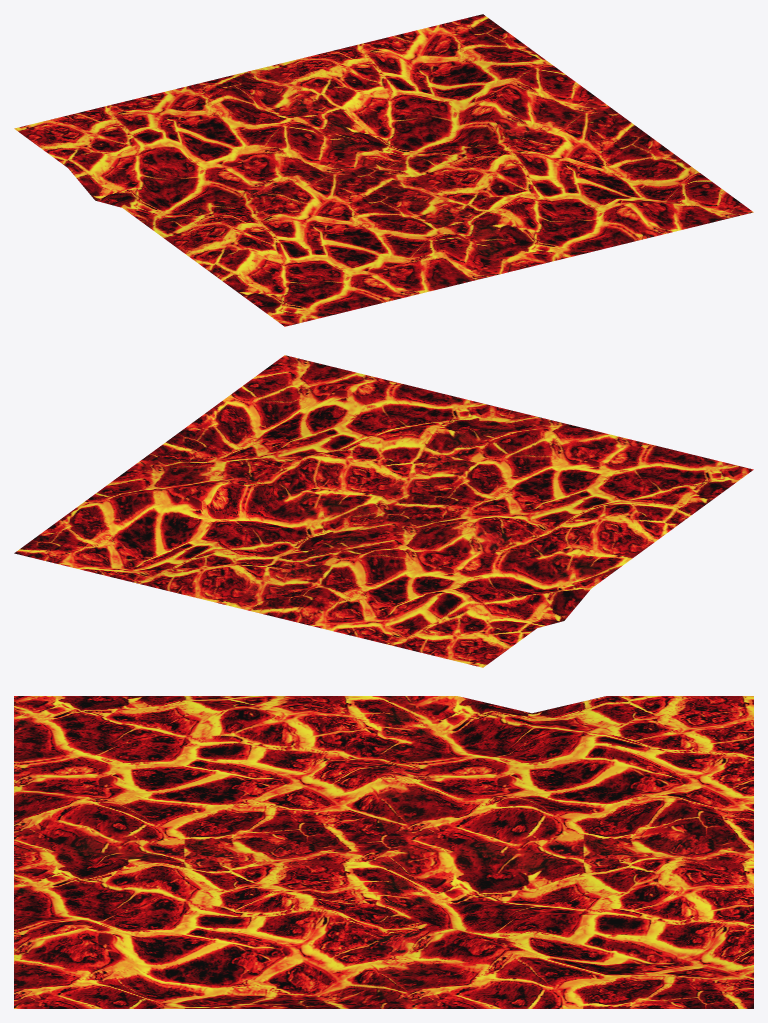
File: lower.fbx
The picture shows the model from 3 angles, top to bottom: view 1: azimuth 30°, elevation 25°; view 2: azimuth 150°, elevation 25°; view 3: azimuth 270°, elevation 25°; orthographic projection. The views are drawn at different scales.
Parts seen in each view (by area): view 1: lower; view 2: lower; view 3: lower.
Part boxes in pixels (x1=…): lower: x1=14, y1=14, x2=753, y2=326; lower: x1=14, y1=355, x2=753, y2=667; lower: x1=14, y1=696, x2=753, y2=1008.
Bounding box in the file's own units: 50.24 × 2.5 × 50.24.
Materials: 1 (1 with a texture image).
